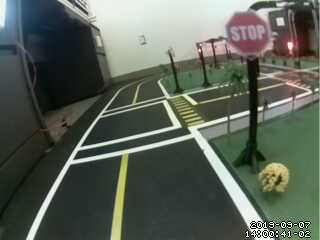Stop_Sign: (223, 8, 270, 55)
